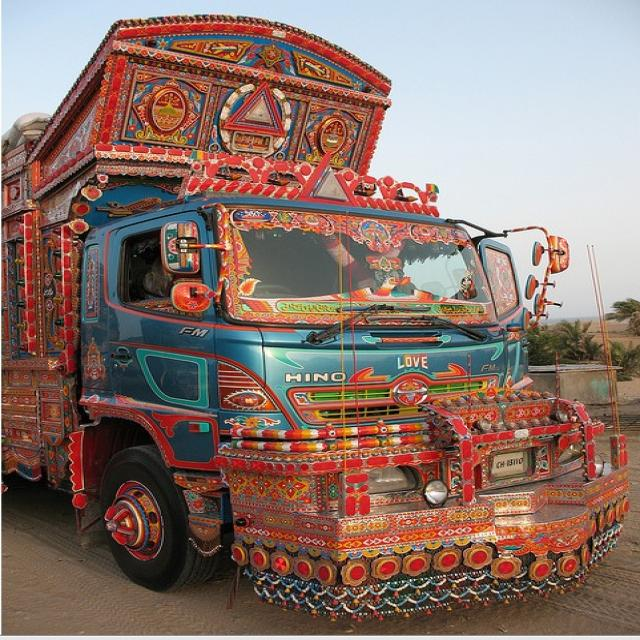truck: (5, 15, 629, 618)
